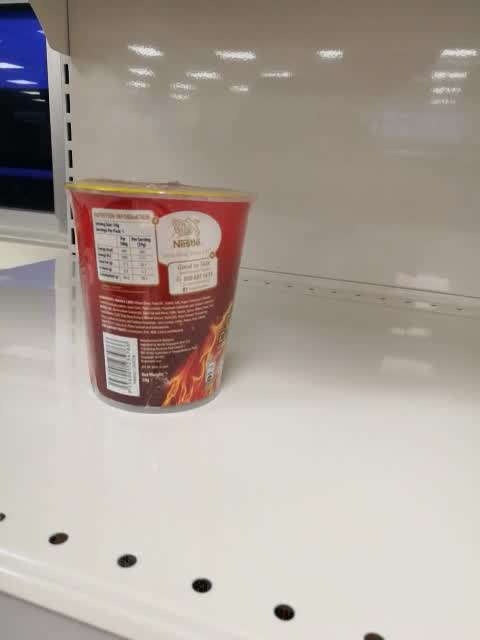maggi: (63, 178, 257, 416)
